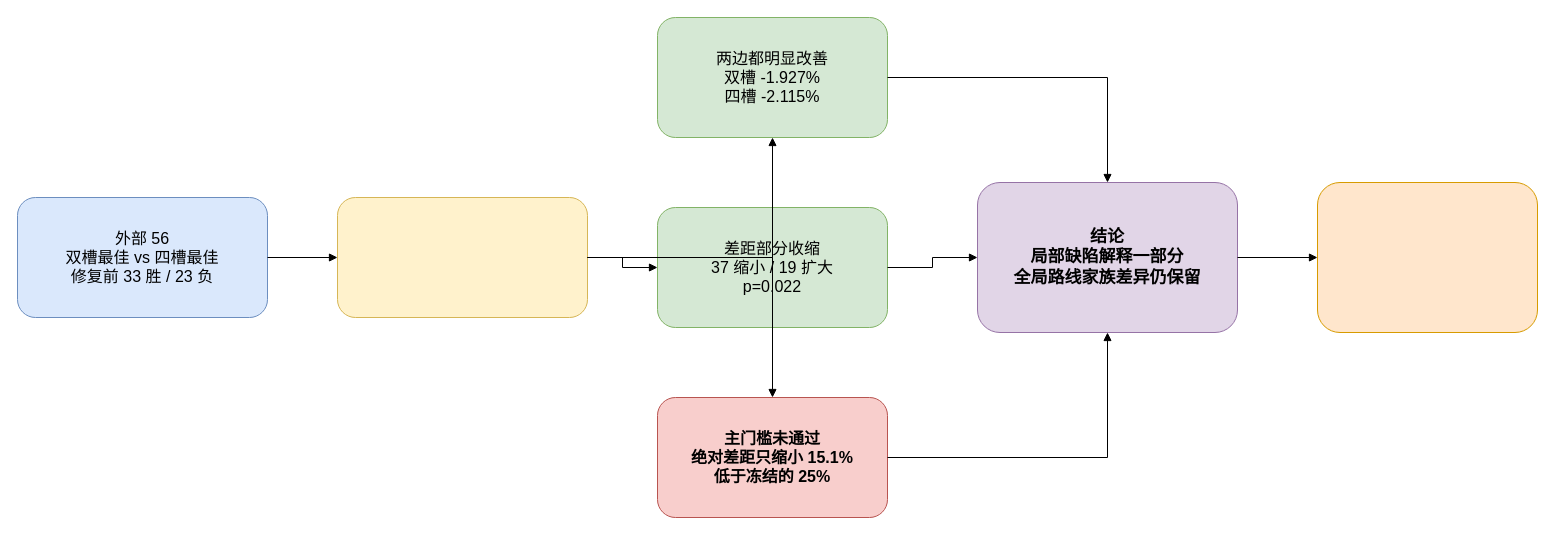
Some shapes in this 1555 by 535 pixel diagram are drawn without their labels. Each missing label, with the centre of its shape:
"下一步 路线边集合重合度 槽位独有贡献 档案覆盖前沿" goes at point (1427, 257).
"匹配局部修复 相同候选索引 相同 5 步成本型 2-opt" goes at point (462, 257).
